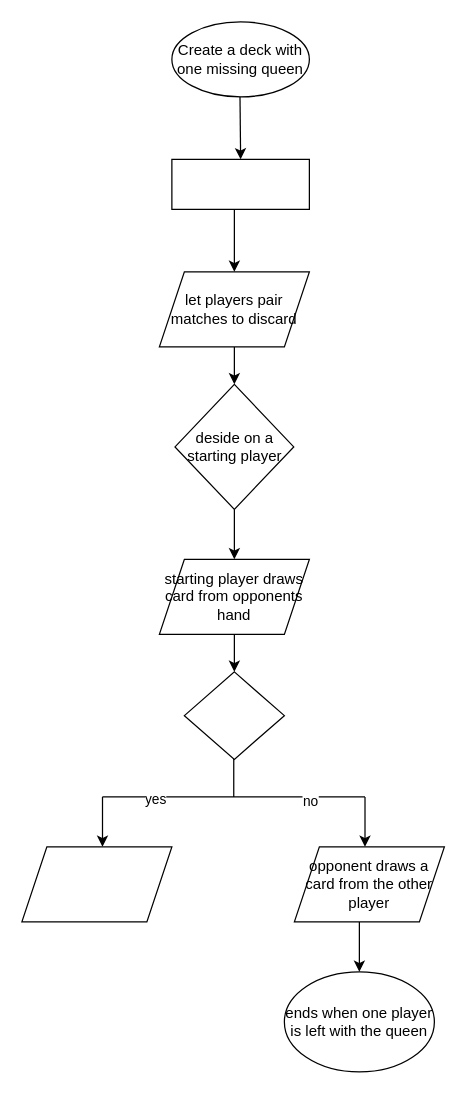
The diagram is 466 pixels wide and 1094 high, and some of its shapes have lost their labels. The centre of each missing label's shape, as x and y in pixels:
matching pair: (233,715)
player discards pair: (96,884)
shuffle and deal the cards: (240,183)
